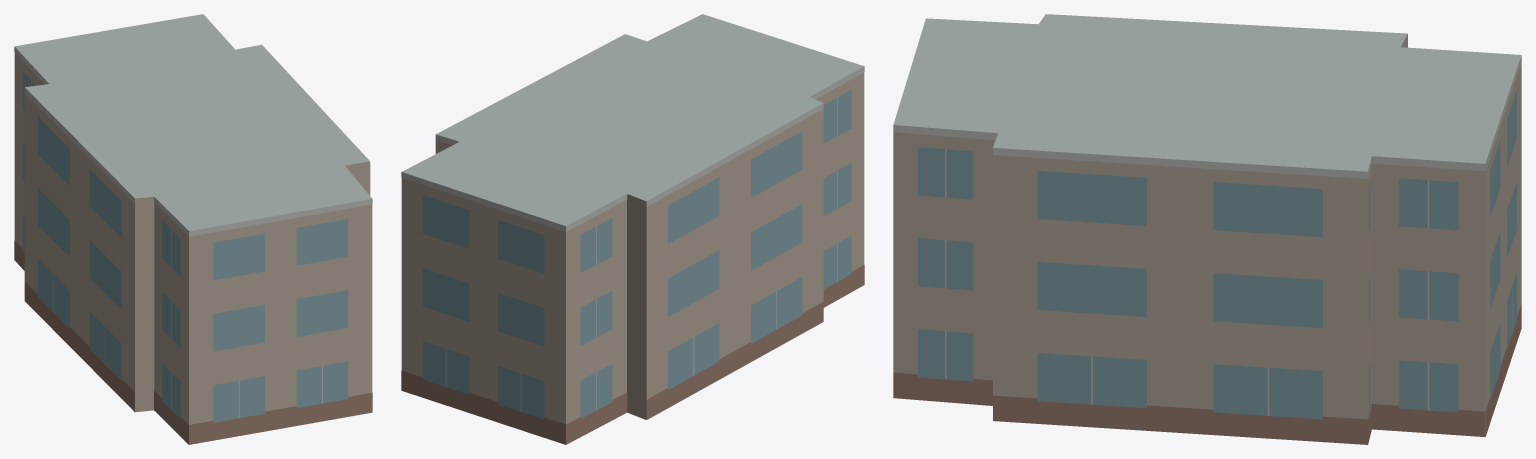
Rendered from survey-upis-32675974.glb.
The picture shows the model from 3 angles, left to right: view 1: azimuth 30°, elevation 25°; view 2: azimuth 150°, elevation 25°; view 3: azimuth 270°, elevation 25°; orthographic projection. The views are drawn at different scales.
Visible parts, largest first — view 1: survey-upis-32675974.tmp; view 2: survey-upis-32675974.tmp; view 3: survey-upis-32675974.tmp.
Boxes of the visible parts, box(x1,y1,x2,y2) form: survey-upis-32675974.tmp: box(14, 14, 372, 444); survey-upis-32675974.tmp: box(401, 14, 864, 444); survey-upis-32675974.tmp: box(893, 14, 1521, 444).
Size of the model in its own units: 11.34 by 9.15 by 19.08.
